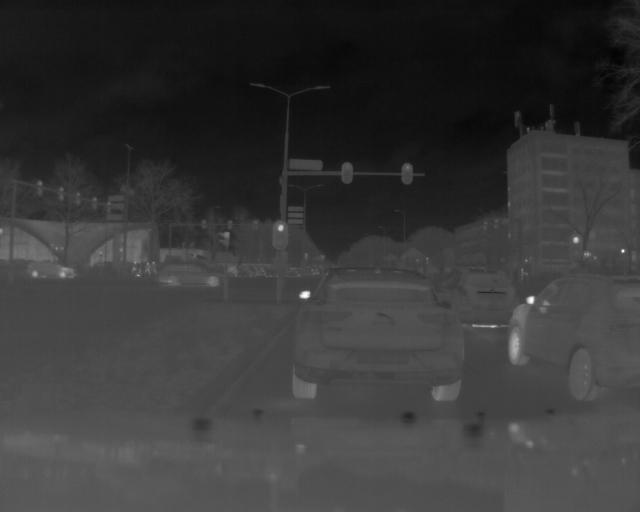car: (293, 265, 467, 407), (506, 274, 640, 404), (450, 269, 530, 332), (160, 261, 230, 290), (25, 258, 81, 281)
person: (142, 257, 151, 277), (129, 257, 138, 277), (151, 258, 158, 277)
